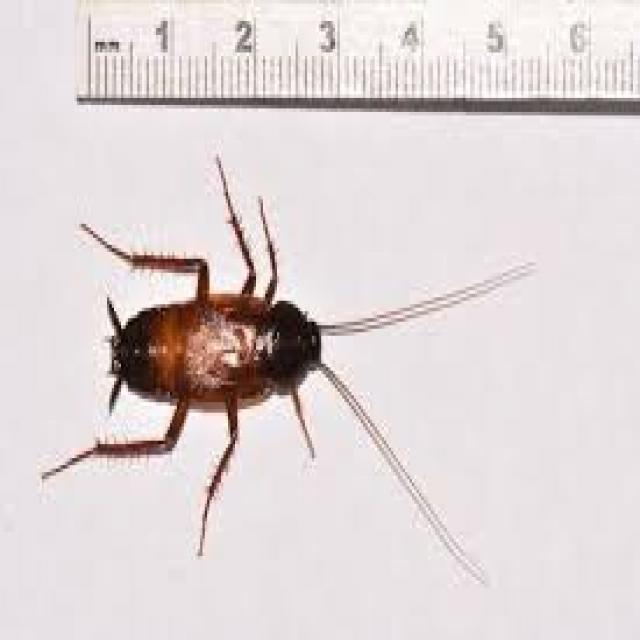Cockroach: (34, 142, 558, 568)
